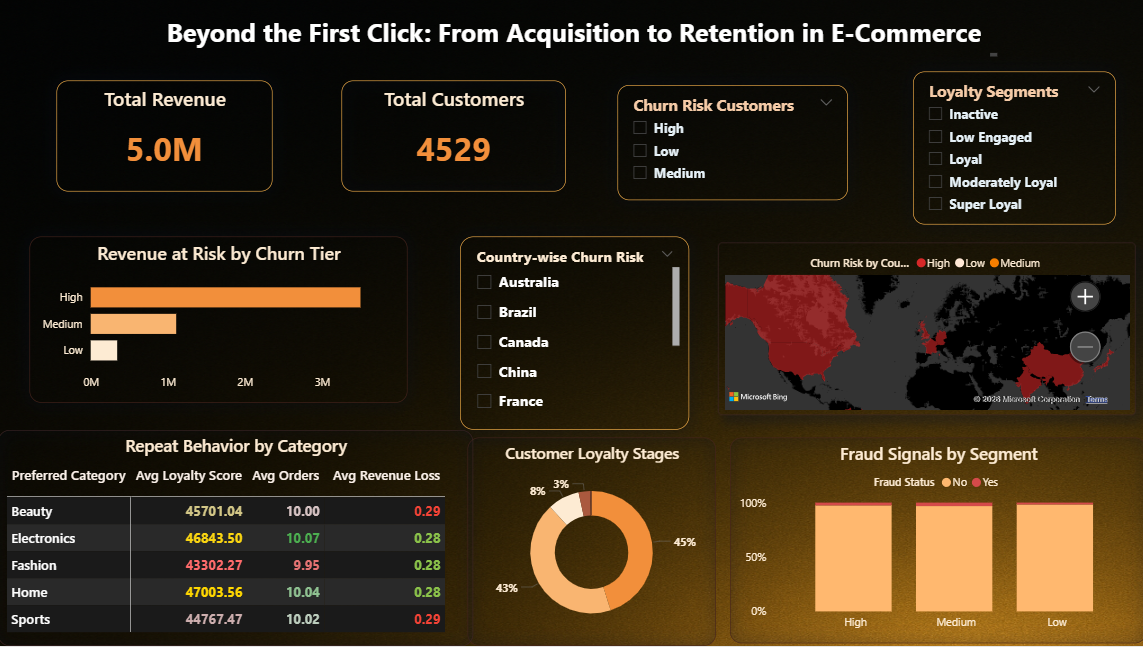

Layout of this report page (visuals, bound fields, positions):
{"tool":"powerbi","page":{"name":"Dashboard","canvas":[1280,720],"ordinal":0},"visuals":[{"type":"card","title":"Total Revenue","fields":{"Values":["Sum(crm.Total Revenue)"]},"box":[65,91.7,240,123.3],"z":0},{"type":"textbox","title":"Beyond the First Click: From Acquisition to Retention in E-Commerce","box":[165,18.3,950,51.7],"z":1000},{"type":"card","title":"Total Customers","fields":{"Values":["CountNonNull(crm.Customer Id)"]},"box":[382.4,91.7,249.2,123.2],"z":2000},{"type":"slicer","fields":{"Values":["crm.Churn Risk Segment"]},"box":[688,96,256,128],"z":3000},{"type":"slicer","fields":{"Values":["crm.Loyalty Segment"]},"box":[1016.7,81.7,225,170],"z":4000},{"type":"clusteredBarChart","title":"Revenue at Risk by Churn Tier","fields":{"Category":["crm.Churn Risk Segment"],"Y":["Sum(crm.Total Revenue)"]},"box":[34.4,265,419.7,184.8],"z":5000},{"type":"donutChart","title":"Customer Loyalty Stages","fields":{"Y":["CountNonNull(crm.Customer Id)"],"Category":["crm.Loyalty Segment"]},"box":[521.4,488.6,275.7,231.4],"z":6000},{"type":"pivotTable","title":"Repeat Behavior by Category","fields":{"Values":["Sum(crm.Avg Loyalty Score)","Avg(crm.Avg Orders)","Avg(crm.Avg Revenue Loss)"],"Rows":["crm.Preferred Category"]},"box":[0,480,528,240],"z":7000},{"type":"hundredPercentStackedColumnChart","title":"Fraud Signals by Segment","fields":{"Category":["crm.Churn Risk Segment"],"Y":["CountNonNull(crm.Customer Id)"],"Series":["crm.Fraud Status"]},"box":[812.9,488.6,462.9,228.6],"z":8000},{"type":"filledMap","fields":{"Category":["crm.Country"],"Series":["crm.Churn Risk Segment"]},"box":[800,272,464,192],"z":10000},{"type":"slicer","fields":{"Values":["crm.Country"]},"box":[512.8,265,255,214.9],"z":11000}]}

Visuals, with their boxes in screenshot pixels (x1, y1, x2, y2), scaled from the page's 1280x720 canvas onto the 1143x647 screenshot:
"Total Revenue" card: {"x1": 58, "y1": 82, "x2": 272, "y2": 193}
"Beyond the First Click: From Acquisition to Retention in E-Commerce" textbox: {"x1": 147, "y1": 16, "x2": 996, "y2": 63}
"Total Customers" card: {"x1": 341, "y1": 82, "x2": 564, "y2": 193}
slicer - crm.Churn Risk Segment: {"x1": 614, "y1": 86, "x2": 843, "y2": 201}
slicer - crm.Loyalty Segment: {"x1": 908, "y1": 73, "x2": 1109, "y2": 226}
"Revenue at Risk by Churn Tier" clusteredBarChart: {"x1": 31, "y1": 238, "x2": 405, "y2": 404}
"Customer Loyalty Stages" donutChart: {"x1": 466, "y1": 439, "x2": 712, "y2": 646}
"Repeat Behavior by Category" pivotTable: {"x1": 0, "y1": 431, "x2": 471, "y2": 646}
"Fraud Signals by Segment" hundredPercentStackedColumnChart: {"x1": 726, "y1": 439, "x2": 1139, "y2": 644}
filledMap - crm.Country x crm.Churn Risk Segment: {"x1": 714, "y1": 244, "x2": 1129, "y2": 417}
slicer - crm.Country: {"x1": 458, "y1": 238, "x2": 686, "y2": 431}
